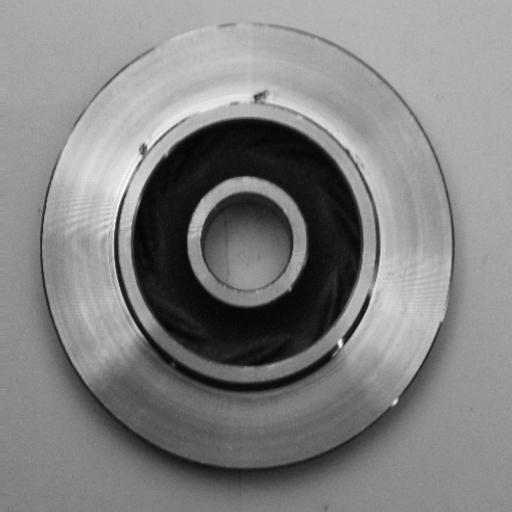crack: (242, 82, 283, 109), (129, 135, 157, 172)
unpolished_casting: (35, 19, 457, 474)
